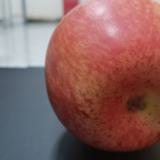apple: (45, 1, 160, 152)
